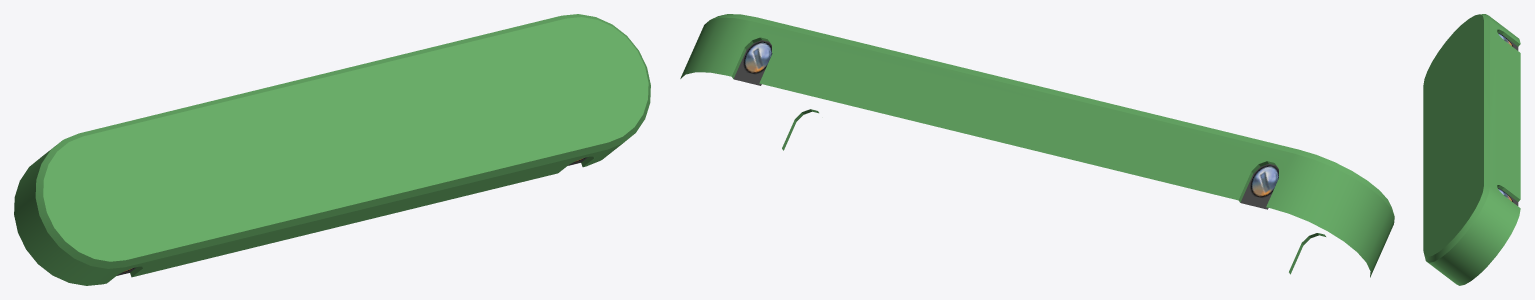
3 views of the same model, side by side, from view 1: azimuth 30°, elevation 25°; view 2: azimuth 150°, elevation 25°; view 3: azimuth 270°, elevation 25° (orthographic). The views are drawn at different scales.
Visible parts, largest first — view 1: Joint_0_Object_0; view 2: Joint_0_Object_0, Joint_0_Object_1; view 3: Joint_0_Object_0, Joint_0_Object_1.
Boxes of the visible parts, x1,y1,x2,y2 form: Joint_0_Object_0: (14, 14, 650, 285); Joint_0_Object_0: (680, 14, 1394, 277); Joint_0_Object_1: (734, 40, 1278, 209); Joint_0_Object_0: (1423, 14, 1520, 285); Joint_0_Object_1: (1497, 32, 1518, 205).
Size of the model in its own units: 430 by 90.03 by 84.33.
2 materials, 1 textured.
